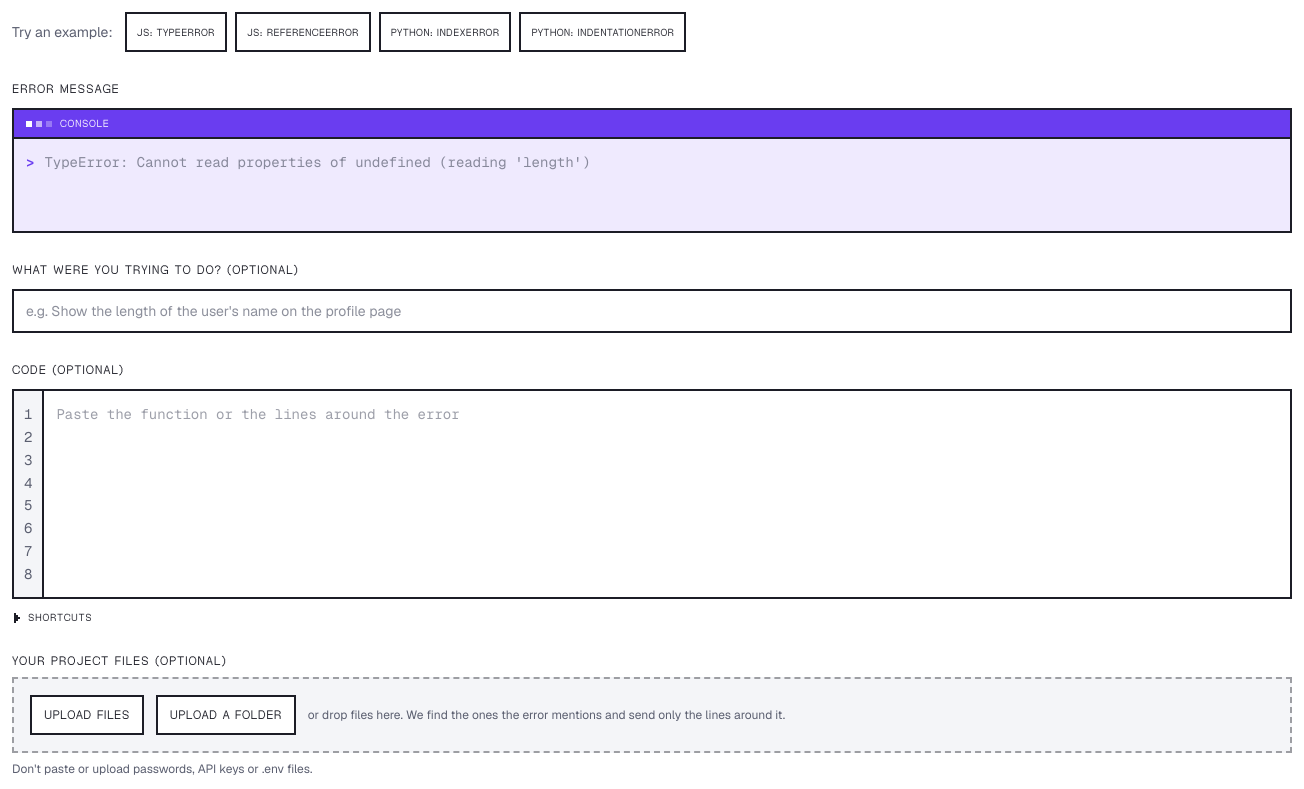
Scenario: scans the error as I type
Step 1. Type "IndexError: list index out of range" into the text box labelled "Error message" → (661, 185), box 44,151 -> 1278,219
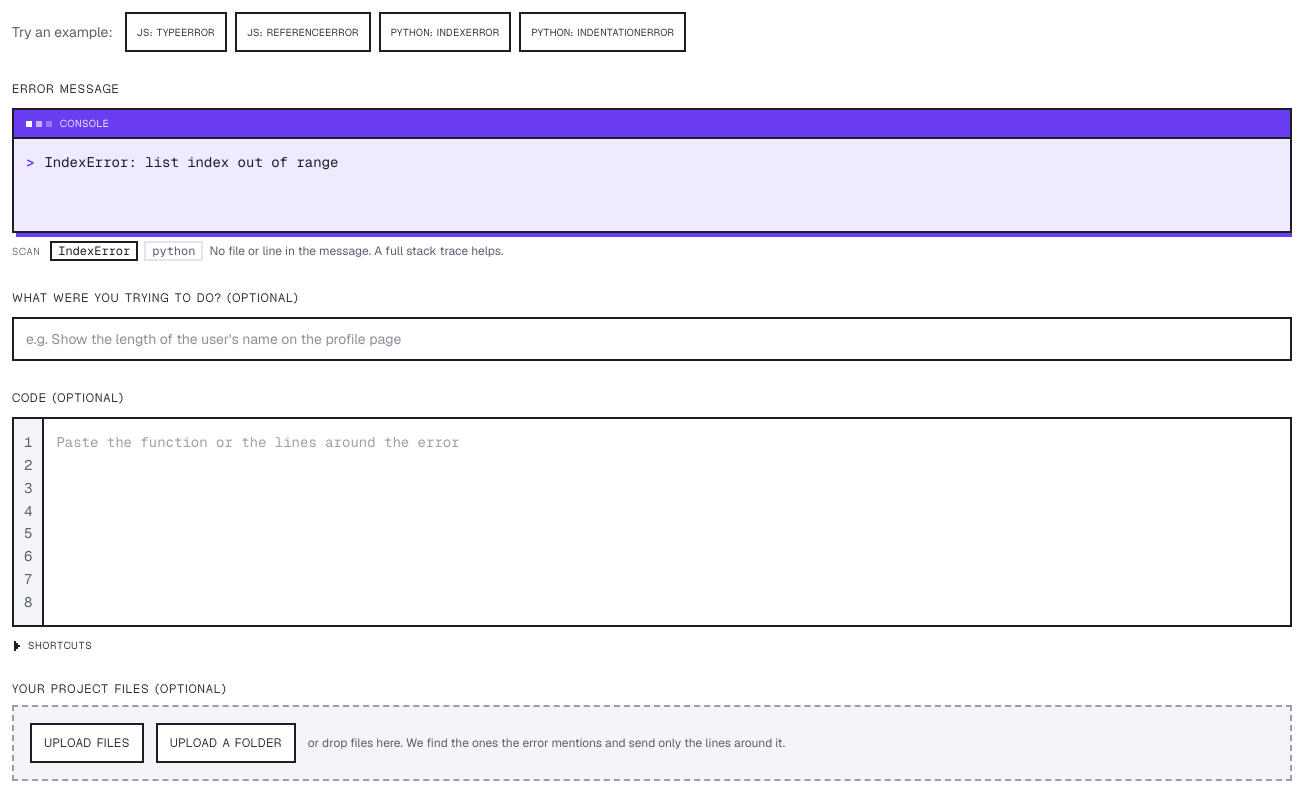
Check: the text "IndexError" is shown, box 50,241 -> 138,261
Check: the text "python" is shown, box 144,241 -> 204,261
